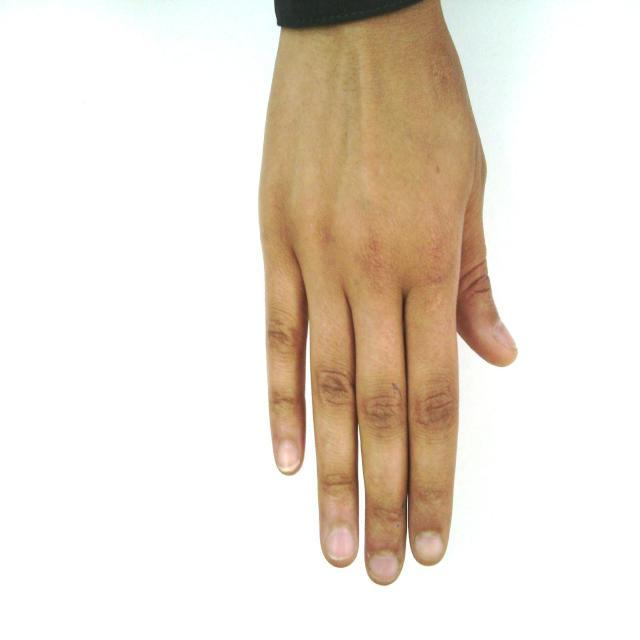Fingernail: (327, 529, 354, 562), (415, 533, 443, 563), (371, 554, 398, 582), (495, 322, 518, 349), (278, 441, 298, 469)
